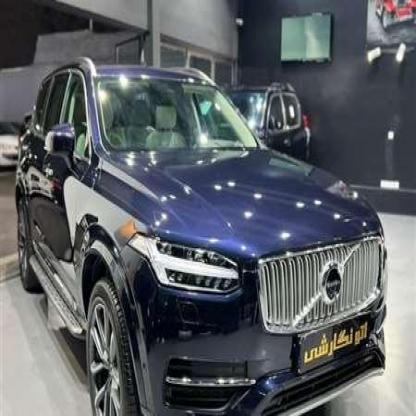Car: (21, 50, 390, 416), (221, 67, 323, 180), (0, 115, 31, 176)
